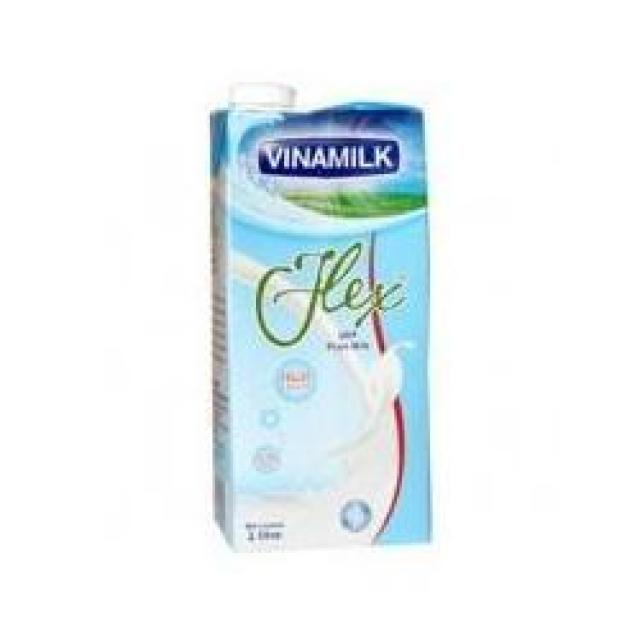non_white_jug: (184, 55, 448, 565)
